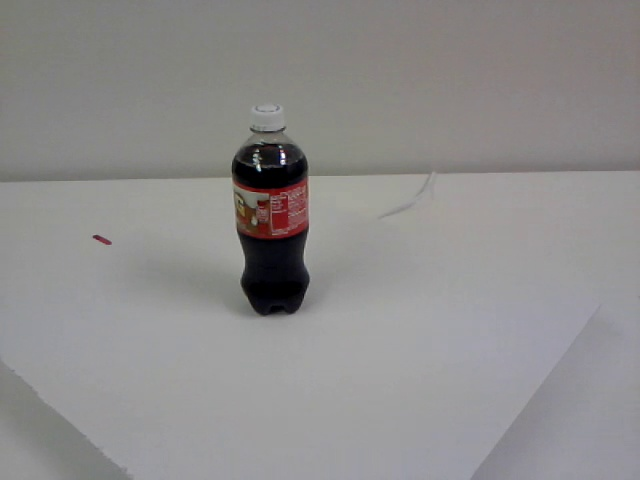botolplastik: (233, 106, 311, 316)
